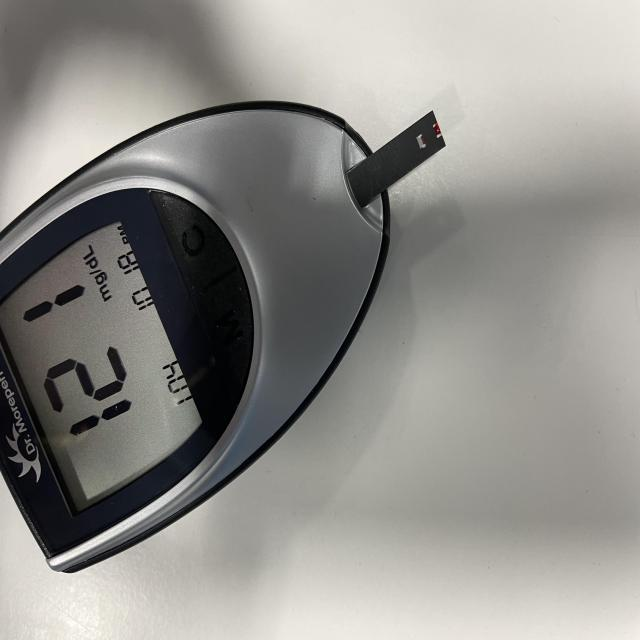gluco: (0, 101, 443, 576)
